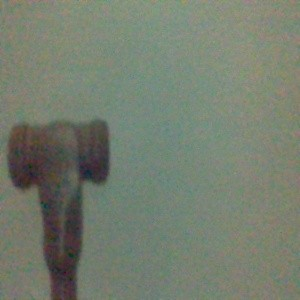palu: (7, 117, 110, 300)
